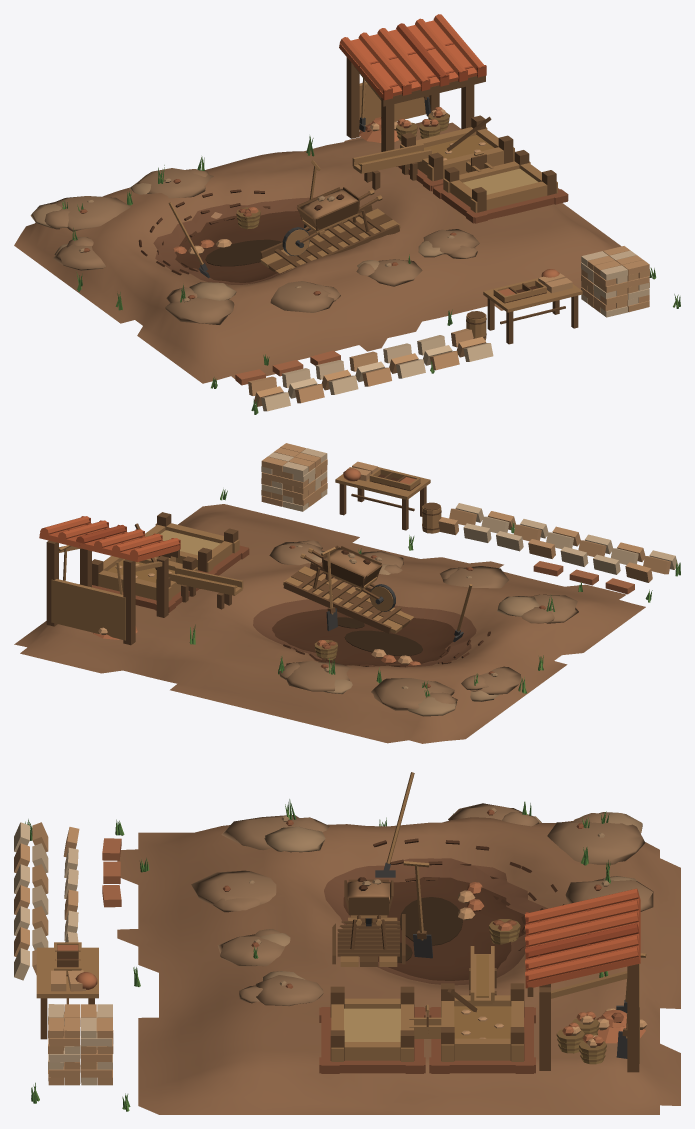
Rendered from Lehmgrube.fbx.
3 views of the same model, one above another, from view 1: azimuth 30°, elevation 25°; view 2: azimuth 150°, elevation 25°; view 3: azimuth 270°, elevation 25° (orthographic). The views are drawn at different scales.
Parts seen in each view (by area): view 1: Lehmgrube_0; view 2: Lehmgrube_0; view 3: Lehmgrube_0.
Boxes of the visible parts, x1,y1,x2,y2 form: Lehmgrube_0: (14, 14, 680, 414); Lehmgrube_0: (14, 443, 680, 743); Lehmgrube_0: (14, 772, 680, 1114).
Size of the model in its own units: 3.67 by 0.9326 by 3.63.
